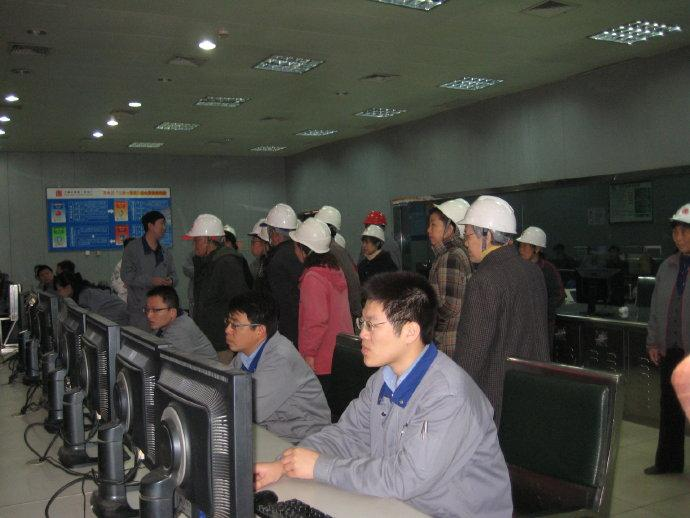helmet: (464, 201, 518, 238), (295, 218, 332, 254), (436, 198, 471, 230), (188, 214, 225, 242), (269, 203, 300, 233), (518, 226, 548, 250), (320, 205, 342, 229), (672, 203, 690, 232), (363, 225, 386, 243), (366, 210, 389, 228), (251, 223, 270, 244), (225, 225, 241, 243)
